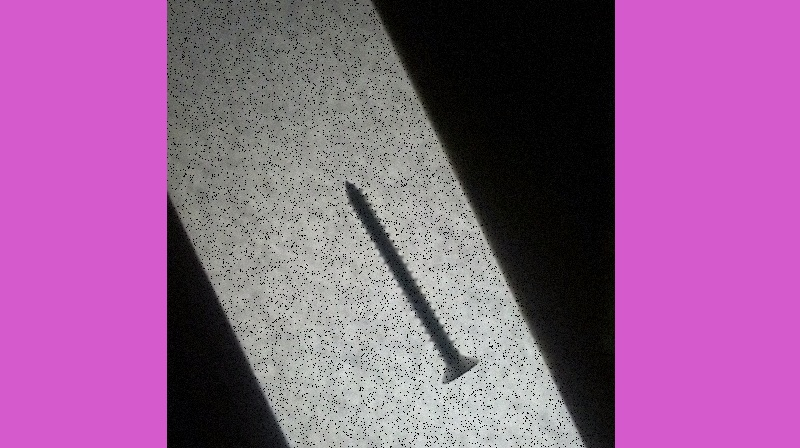S002: (341, 175, 481, 387)
